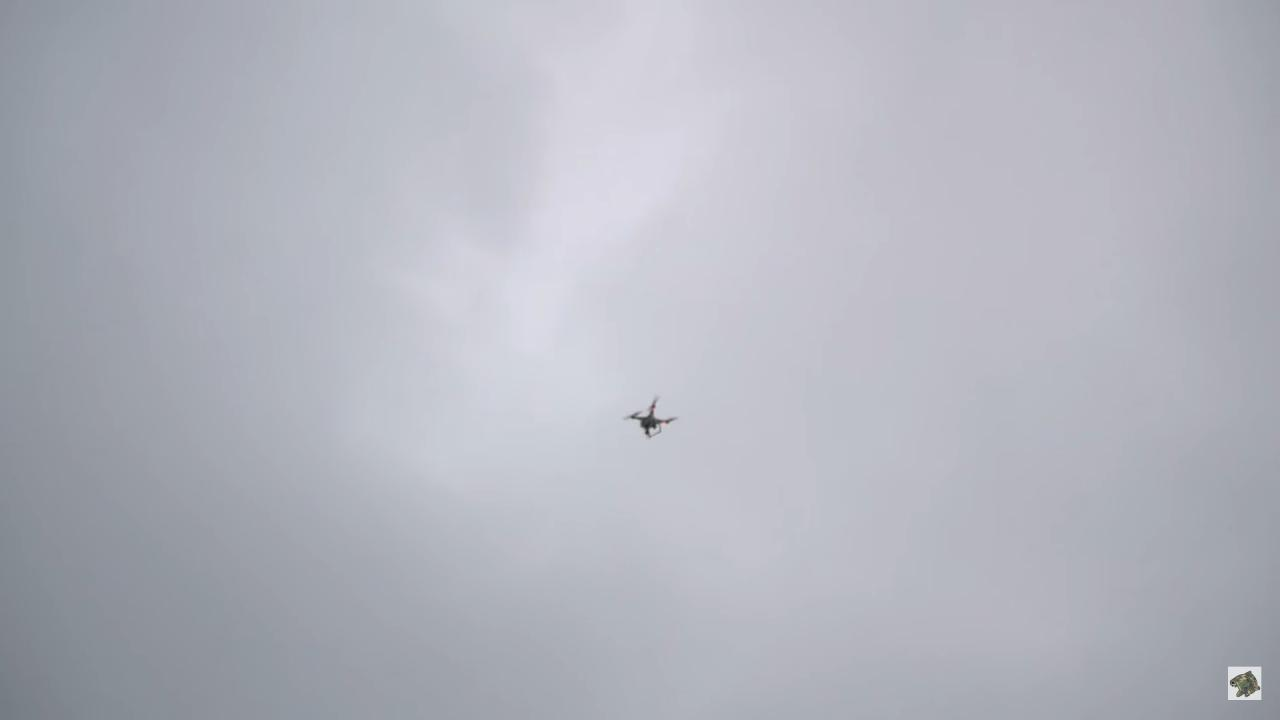Drone: (615, 388, 687, 453)
